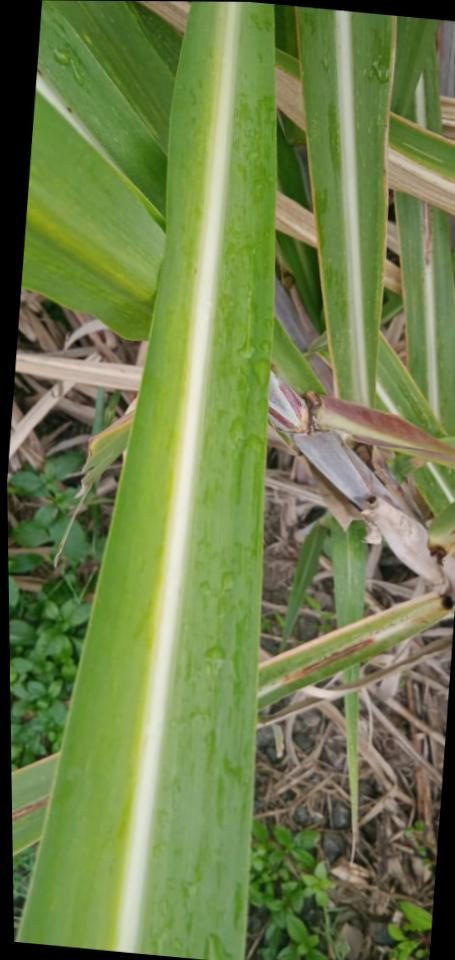Yellow: (95, 2, 229, 951), (24, 193, 158, 314)
